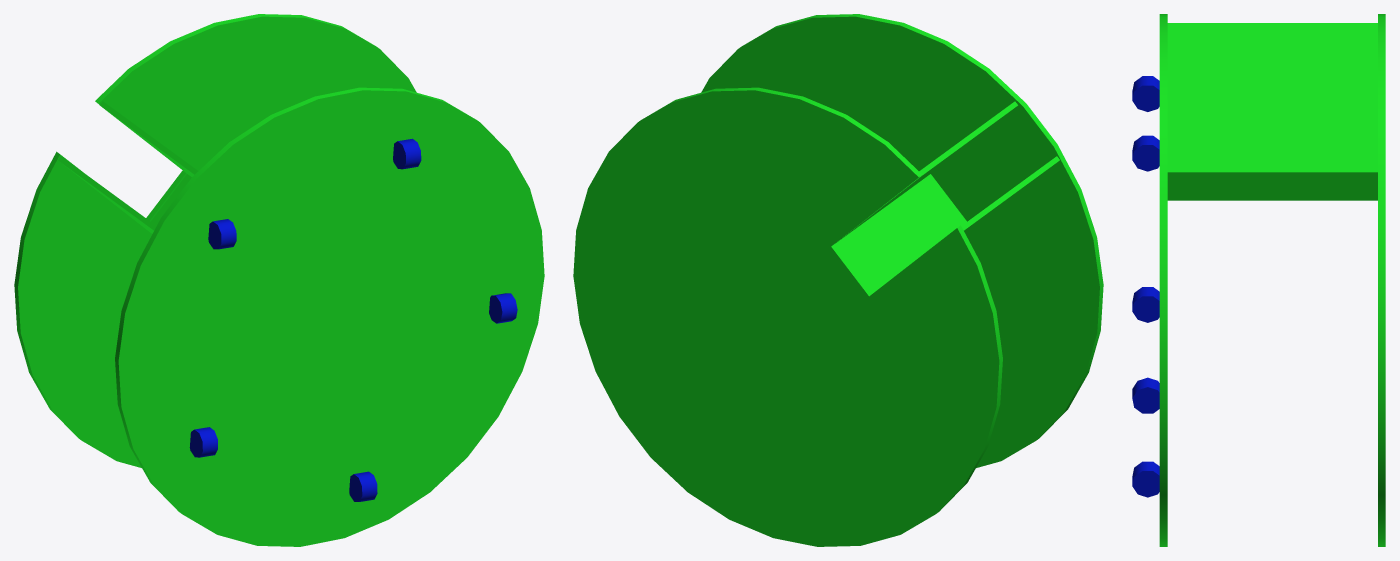
File: coffee_table_4.FBX
3 views of the same model, side by side, from view 1: azimuth 30°, elevation 25°; view 2: azimuth 150°, elevation 25°; view 3: azimuth 270°, elevation 25° (orthographic). The views are drawn at different scales.
Parts seen in each view (by area): view 1: coffee_table_4; view 2: coffee_table_4; view 3: coffee_table_4.
Boxes of the visible parts, box(x1,y1,x2,y2) form: coffee_table_4: box(14, 14, 544, 546); coffee_table_4: box(573, 14, 1103, 546); coffee_table_4: box(1132, 14, 1385, 546).
Bounding box in the file's own units: 89.73 × 89.64 × 42.65.
